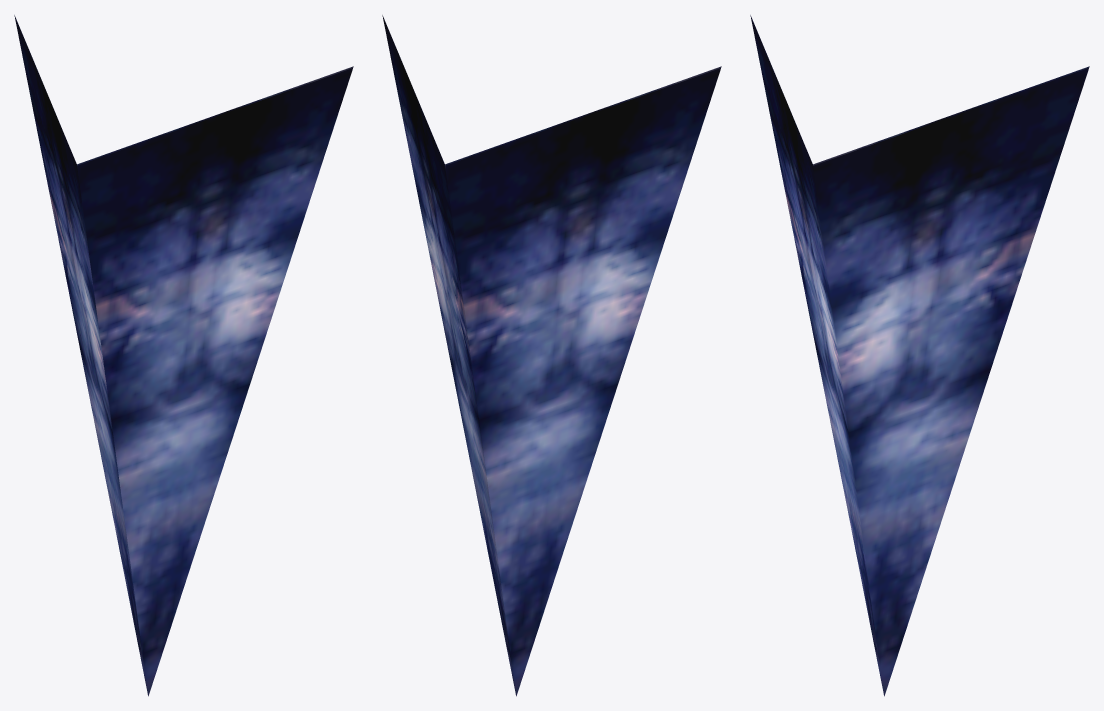
The picture shows the model from 3 angles, left to right: view 1: azimuth 30°, elevation 25°; view 2: azimuth 150°, elevation 25°; view 3: azimuth 270°, elevation 25°; orthographic projection.
Visible parts, largest first — view 1: Object14; view 2: Object14; view 3: Object14.
Boxes of the visible parts, x1,y1,x2,y2 form: Object14: [14, 15, 353, 696]; Object14: [382, 15, 721, 696]; Object14: [750, 15, 1089, 696].
Bounding box in the file's own units: 1098 × 2095 × 1048.
Materials: 1 (1 with a texture image).
